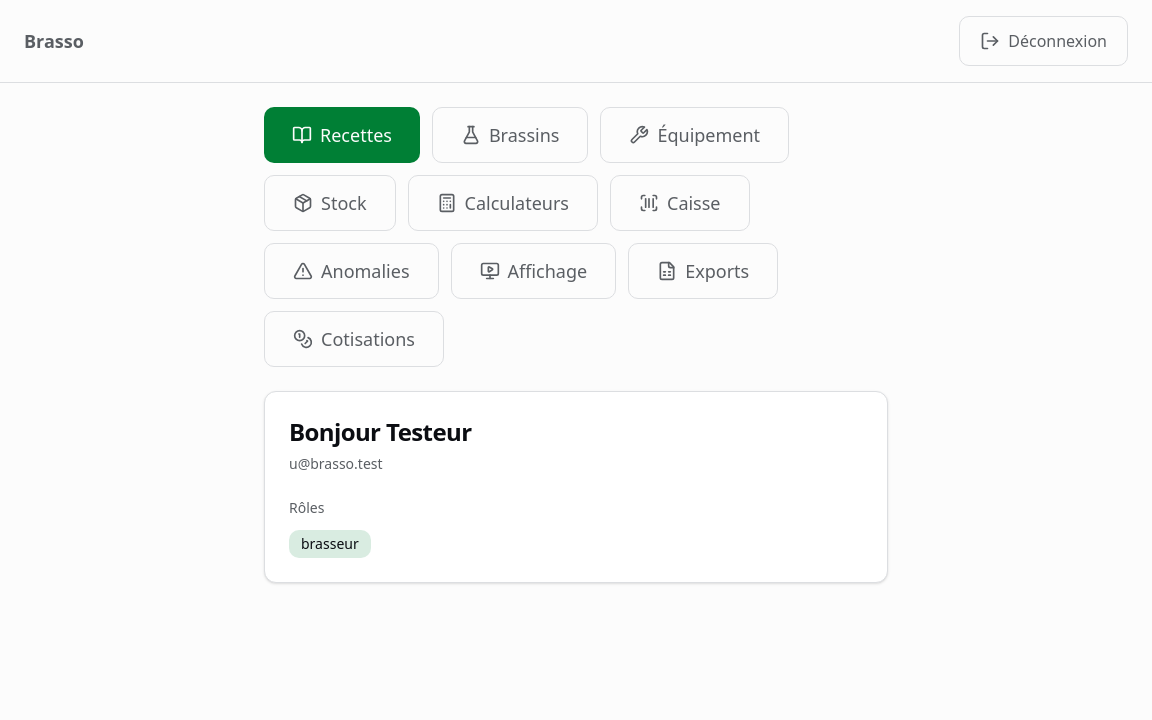
Test: hub d'accueil — atteignabilité et masquage RBAC › C. atteignabilité réelle (clic → route cible, pas la redirection * → /) › Brassins (inconditionnelle) mène réellement à /batches
Click the link "Brassins" at (510, 135), box 432,107 -> 588,163
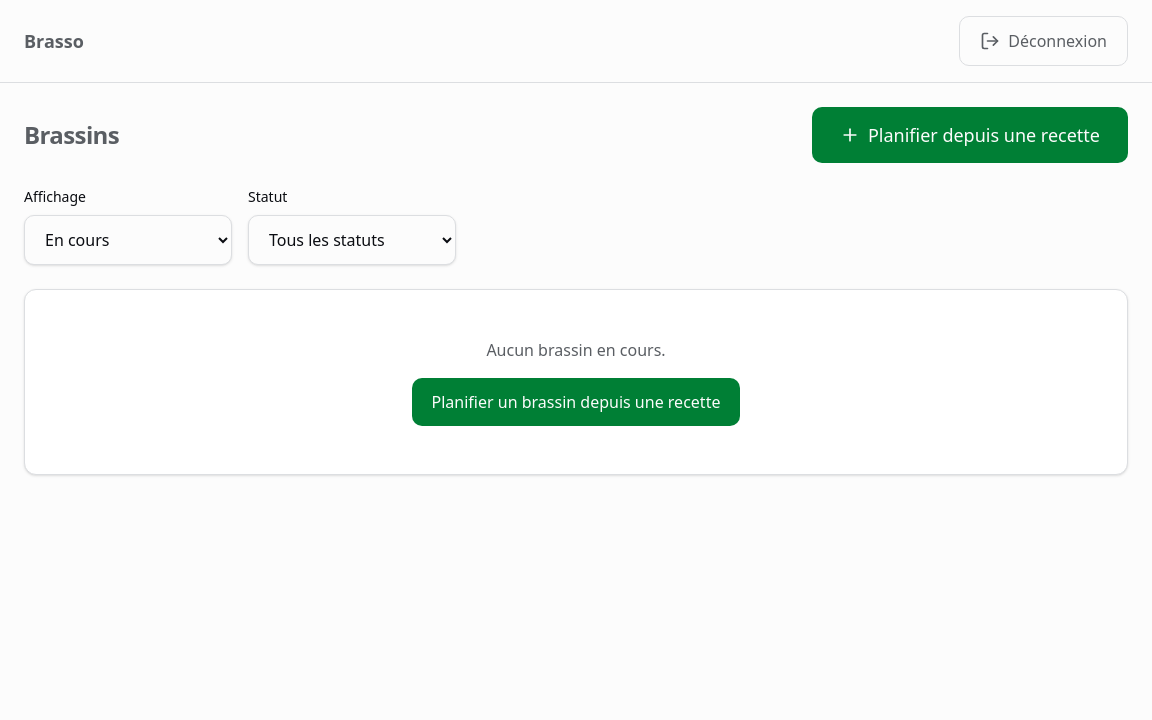
Now the heading "Brassins" is shown, box 24,119 -> 119,151
Now the heading "Bonjour" is gone
